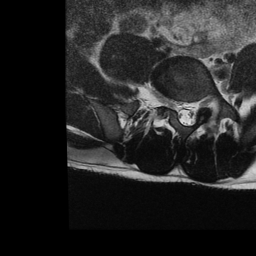CCS_normal: (183, 94, 190, 133)
LFS_normal: (197, 90, 205, 115)
LLS_normal: (190, 93, 198, 130)
RFS_normal: (166, 88, 174, 115)
RLS_normal: (175, 91, 182, 128)
